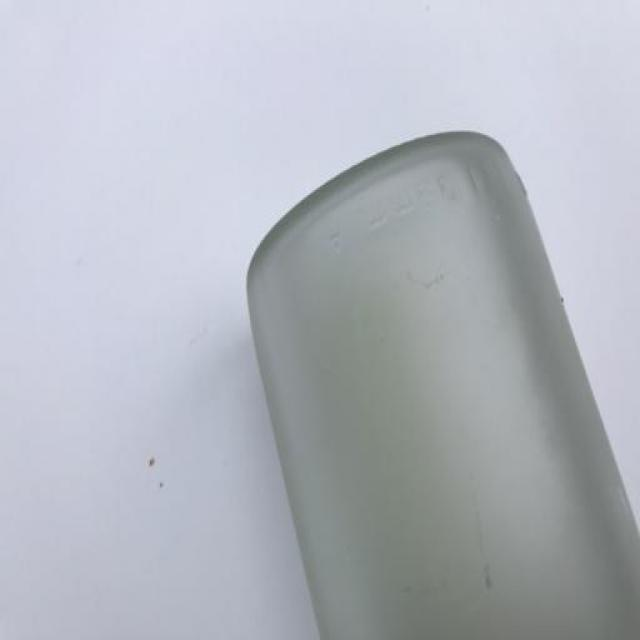Waste: (249, 132, 640, 639)
